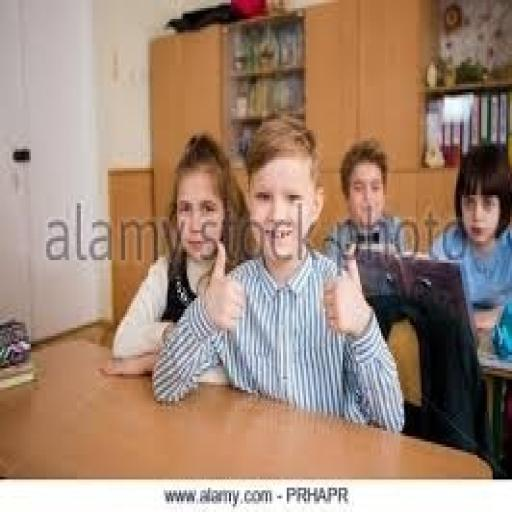sitting: (150, 114, 406, 433), (98, 130, 254, 379), (427, 141, 510, 330)
